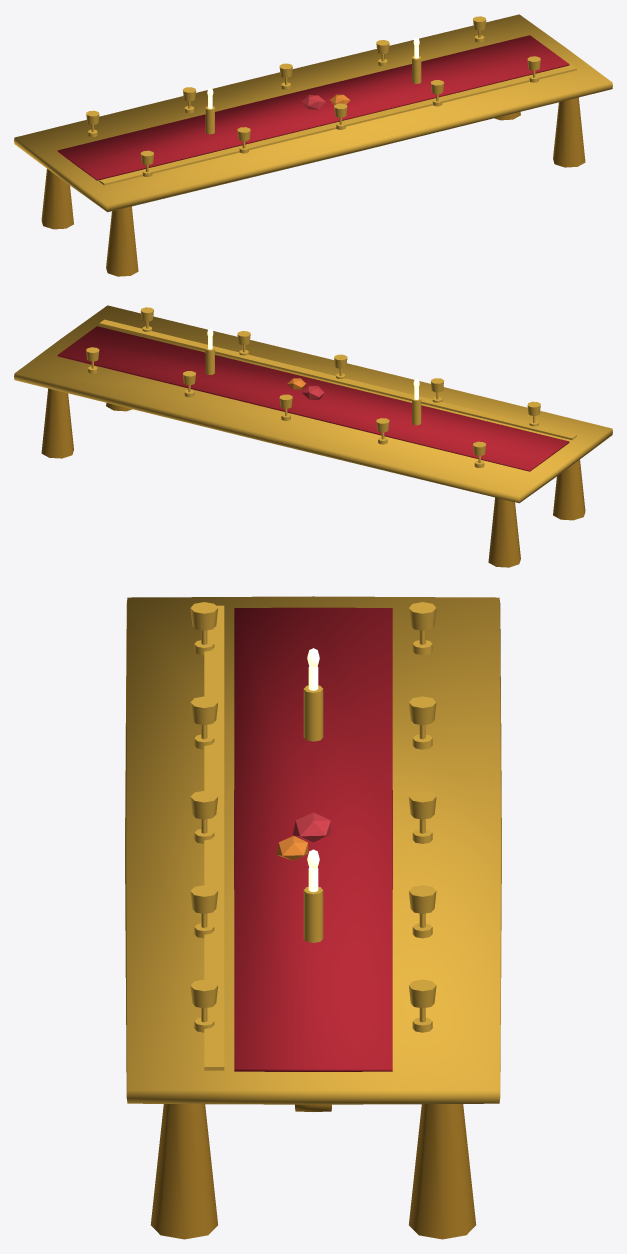
File: royal_table.glb
3 renders of one model, top to bottom at view 1: azimuth 30°, elevation 25°; view 2: azimuth 150°, elevation 25°; view 3: azimuth 270°, elevation 25°, orthographic. The views are drawn at different scales.
Visible parts, largest first — view 1: root; view 2: root; view 3: root.
Part boxes in pixels (bbox=[...]): root: bbox=[14, 14, 612, 276]; root: bbox=[14, 305, 612, 567]; root: bbox=[125, 596, 501, 1239].
Bounding box in the file's own units: 5.9 × 1.44 × 1.9.
